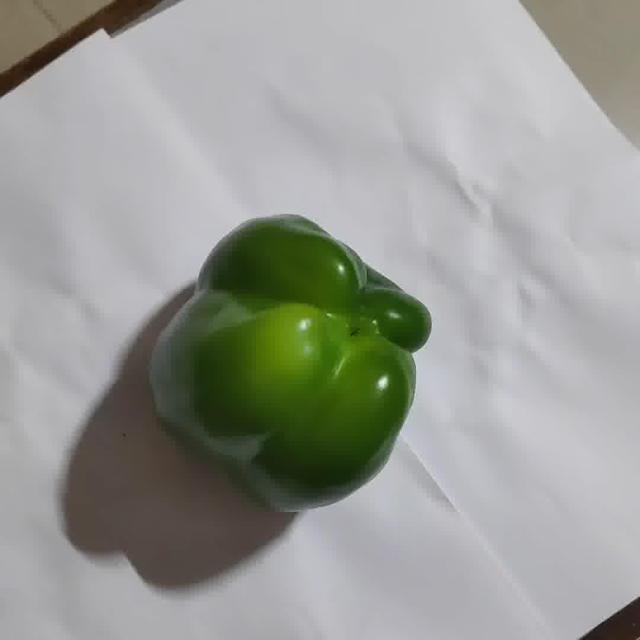Bell Pepper: (151, 216, 431, 513)
